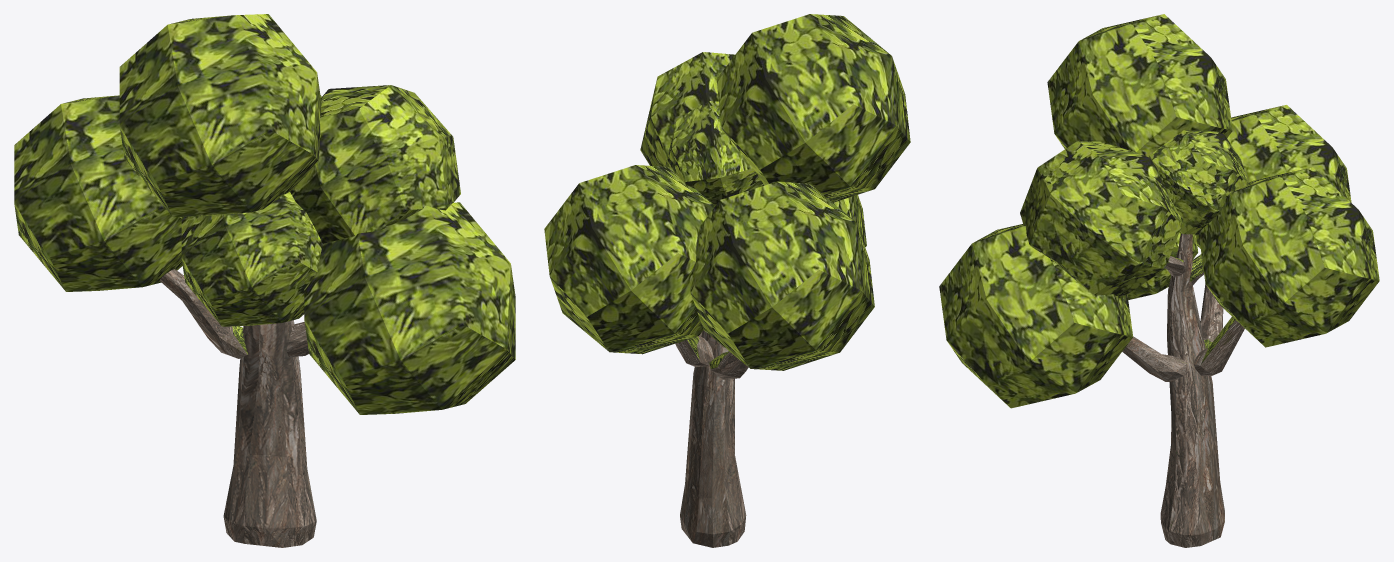
File: tree01.fbx
3 views of the same model, side by side, from view 1: azimuth 30°, elevation 25°; view 2: azimuth 150°, elevation 25°; view 3: azimuth 270°, elevation 25° (orthographic). The views are drawn at different scales.
Parts seen in each view (by area): view 1: tree01; view 2: tree01; view 3: tree01.
Part boxes in pixels (box(x1,y1,x2,y2)): tree01: box(14, 14, 515, 547); tree01: box(544, 14, 910, 547); tree01: box(939, 14, 1379, 547).
Size of the model in its own units: 703 by 1072 by 879.
Materials: 1 (1 with a texture image).
